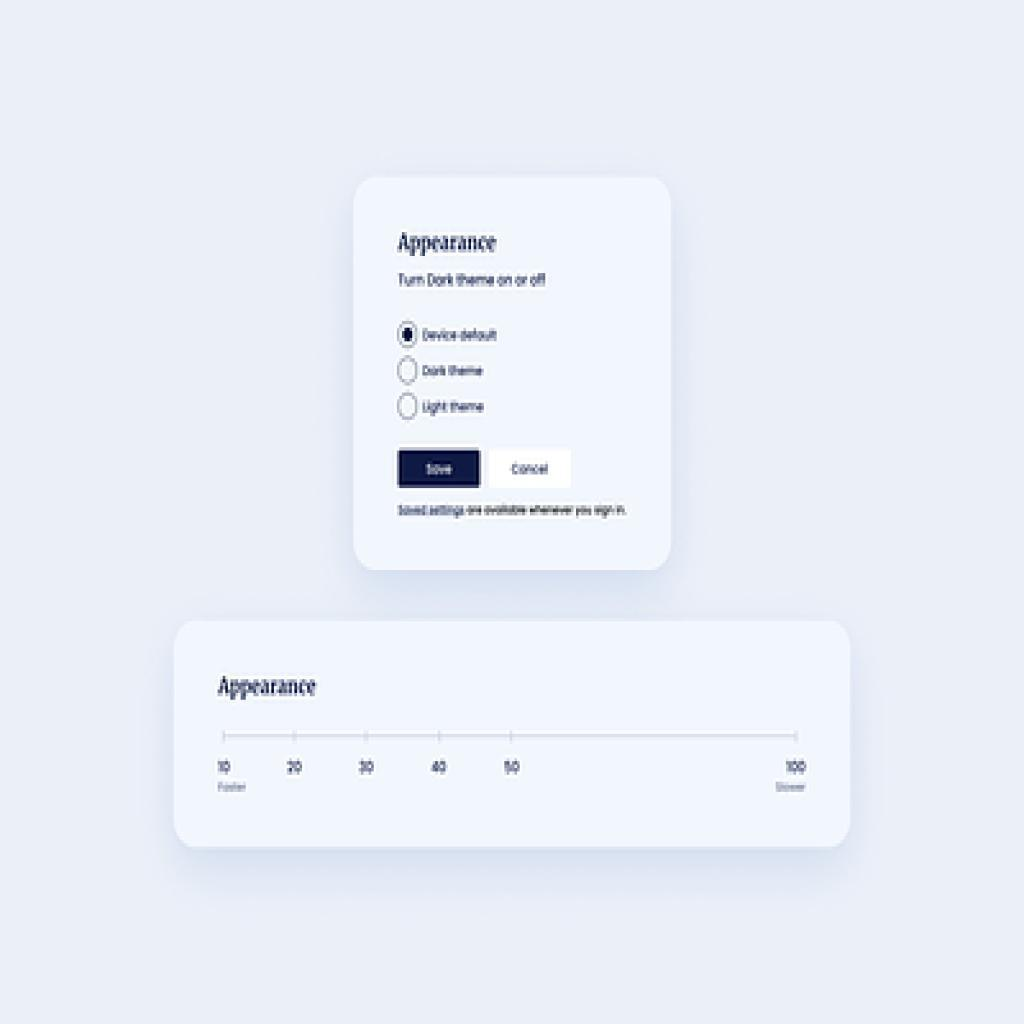button: (487, 449, 572, 490), (399, 450, 482, 489)
label: (398, 271, 551, 292), (217, 670, 320, 699), (398, 232, 503, 259), (422, 327, 501, 348), (422, 398, 490, 419), (423, 365, 490, 382)
radio: (397, 391, 418, 426), (397, 356, 420, 386), (399, 321, 420, 349)
